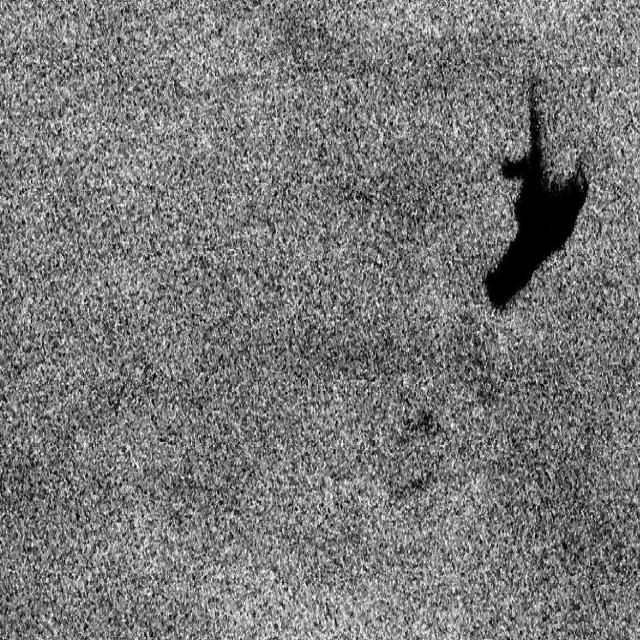oil-spill: (478, 80, 593, 315)
